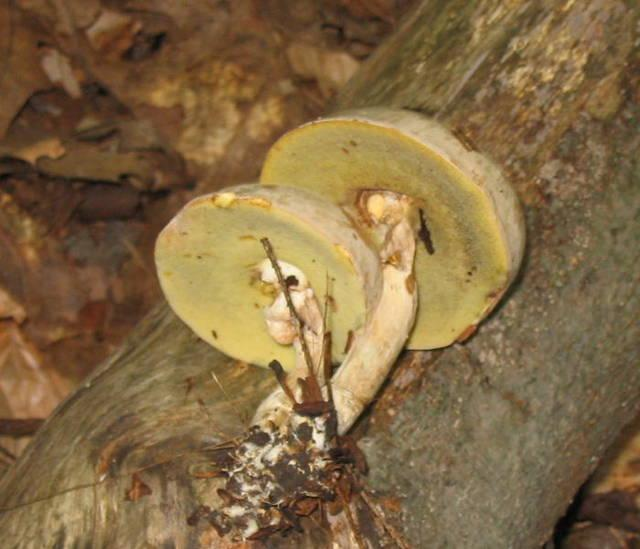edible_mushroom: (152, 104, 527, 441)
